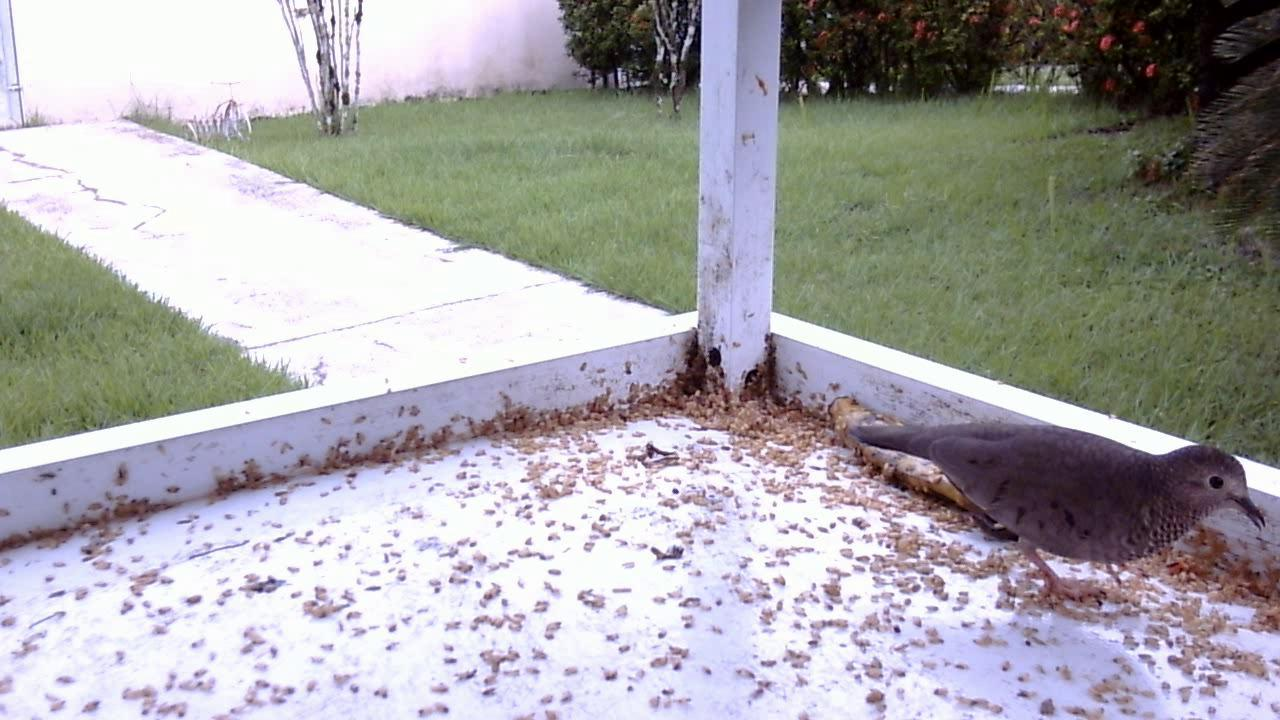rolinha: (837, 390, 1268, 616)
